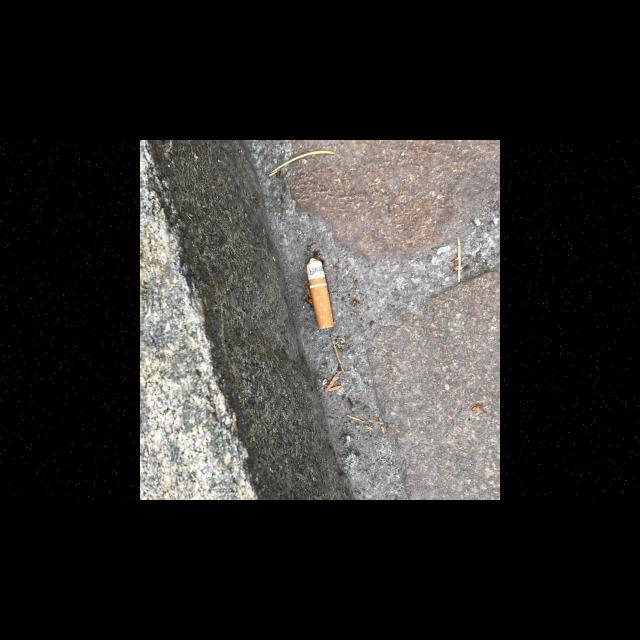cigarette: (306, 258, 335, 330)
